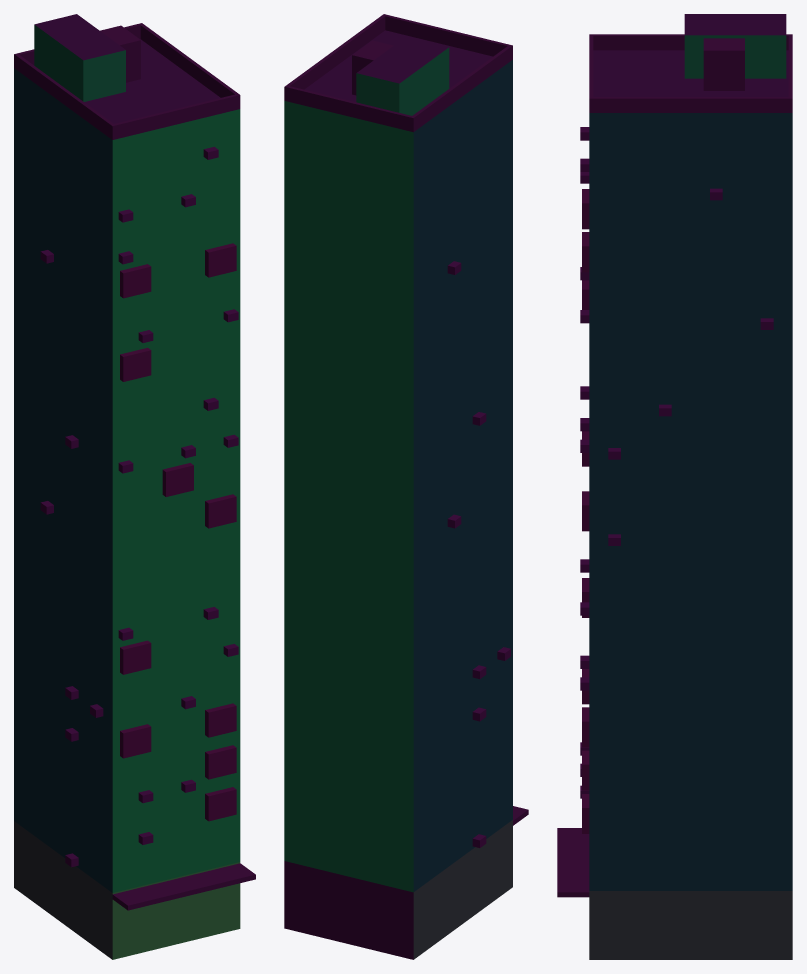
Rendered from slab_e.glb.
The picture shows the model from 3 angles, left to right: view 1: azimuth 30°, elevation 25°; view 2: azimuth 150°, elevation 25°; view 3: azimuth 270°, elevation 25°; orthographic projection. The views are drawn at different scales.
Parts seen in each view (by area): view 1: slab_e; view 2: slab_e; view 3: slab_e.
Boxes of the visible parts, x1,y1,x2,y2 form: slab_e: (14, 14, 255, 959); slab_e: (284, 14, 528, 959); slab_e: (557, 14, 792, 959).
Size of the model in its own units: 10.7 by 61.8 by 14.8.
